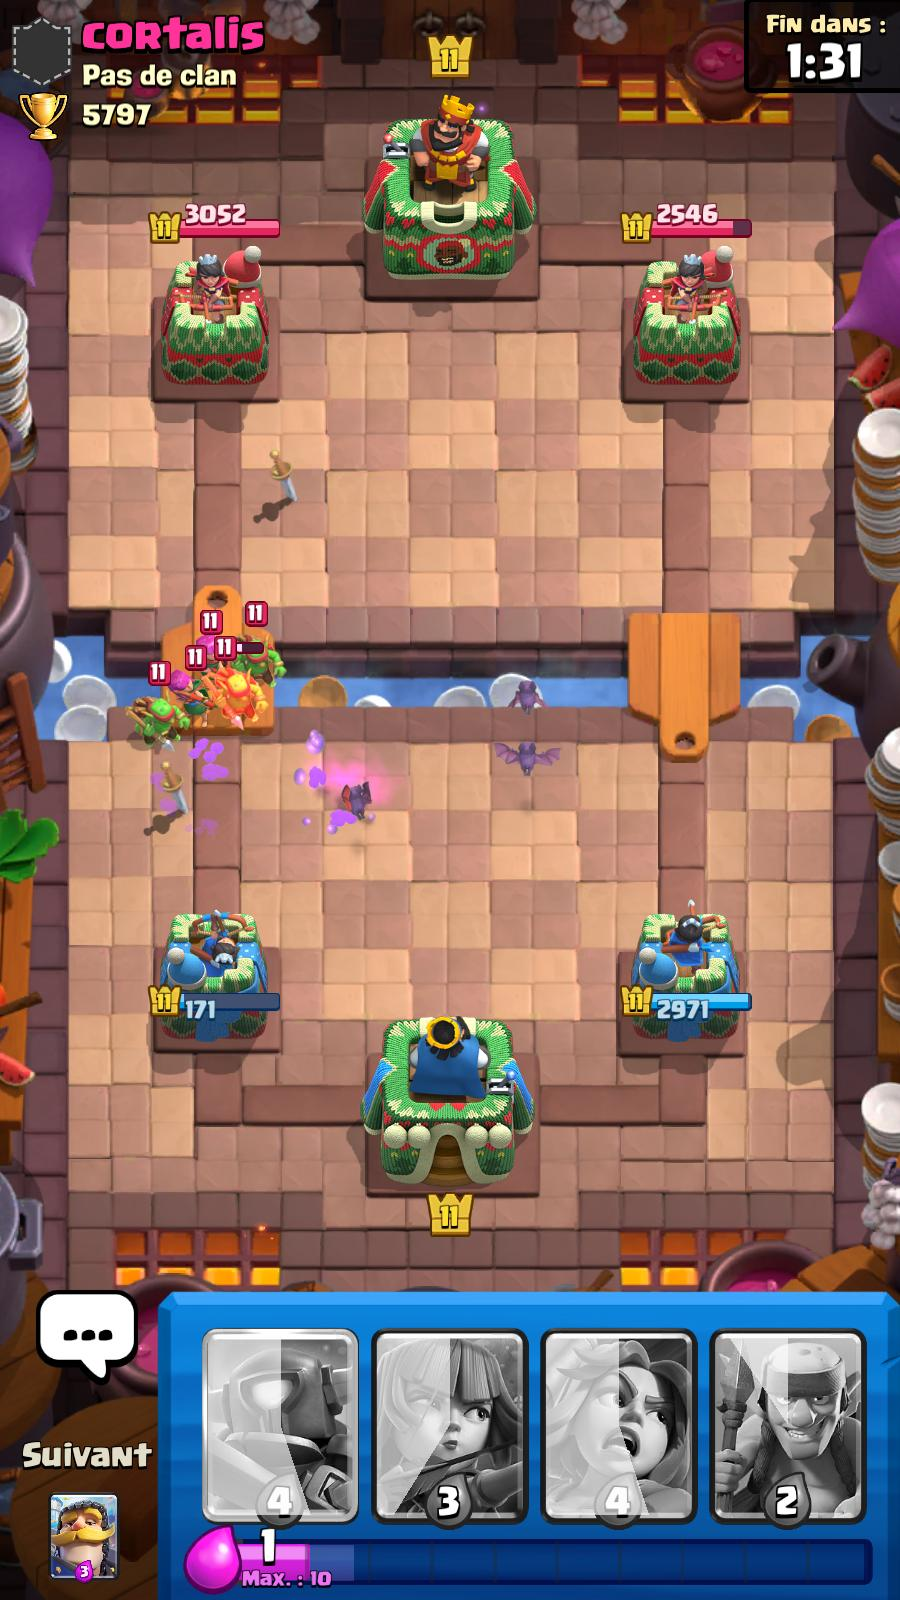archere: (151, 647, 219, 727), (180, 618, 243, 692)
bat: (486, 736, 571, 777), (330, 771, 389, 827), (492, 674, 556, 719)
gobelin_lances: (121, 682, 186, 763), (199, 674, 273, 733), (237, 633, 292, 691)
